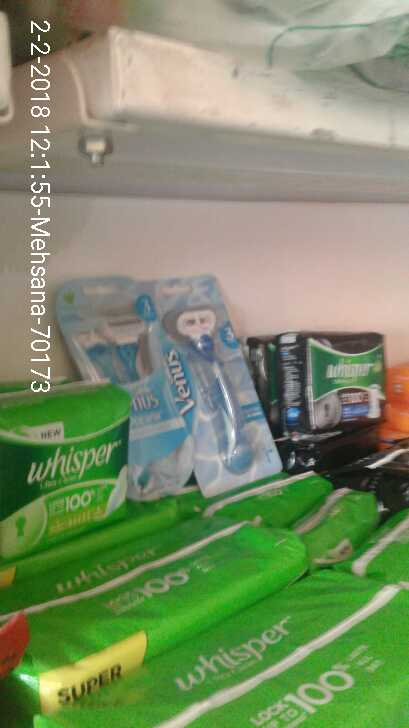beauty: (152, 278, 276, 475)
pharmacy: (4, 380, 131, 528), (272, 320, 383, 418)
